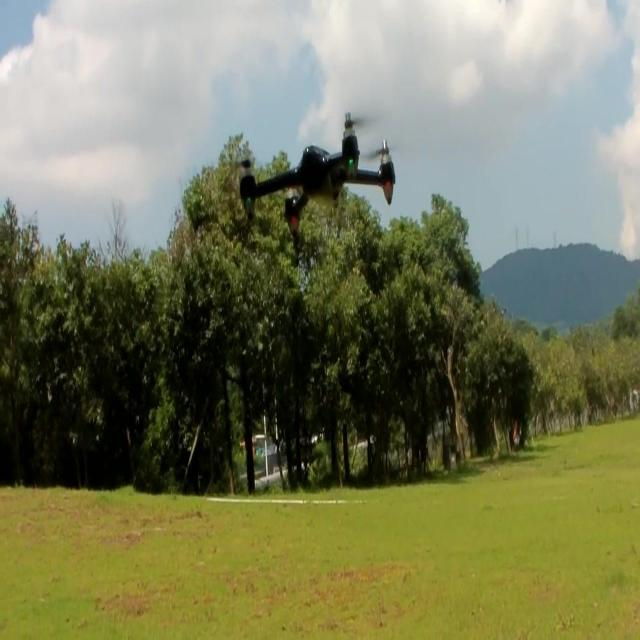drone: (237, 109, 400, 238)
